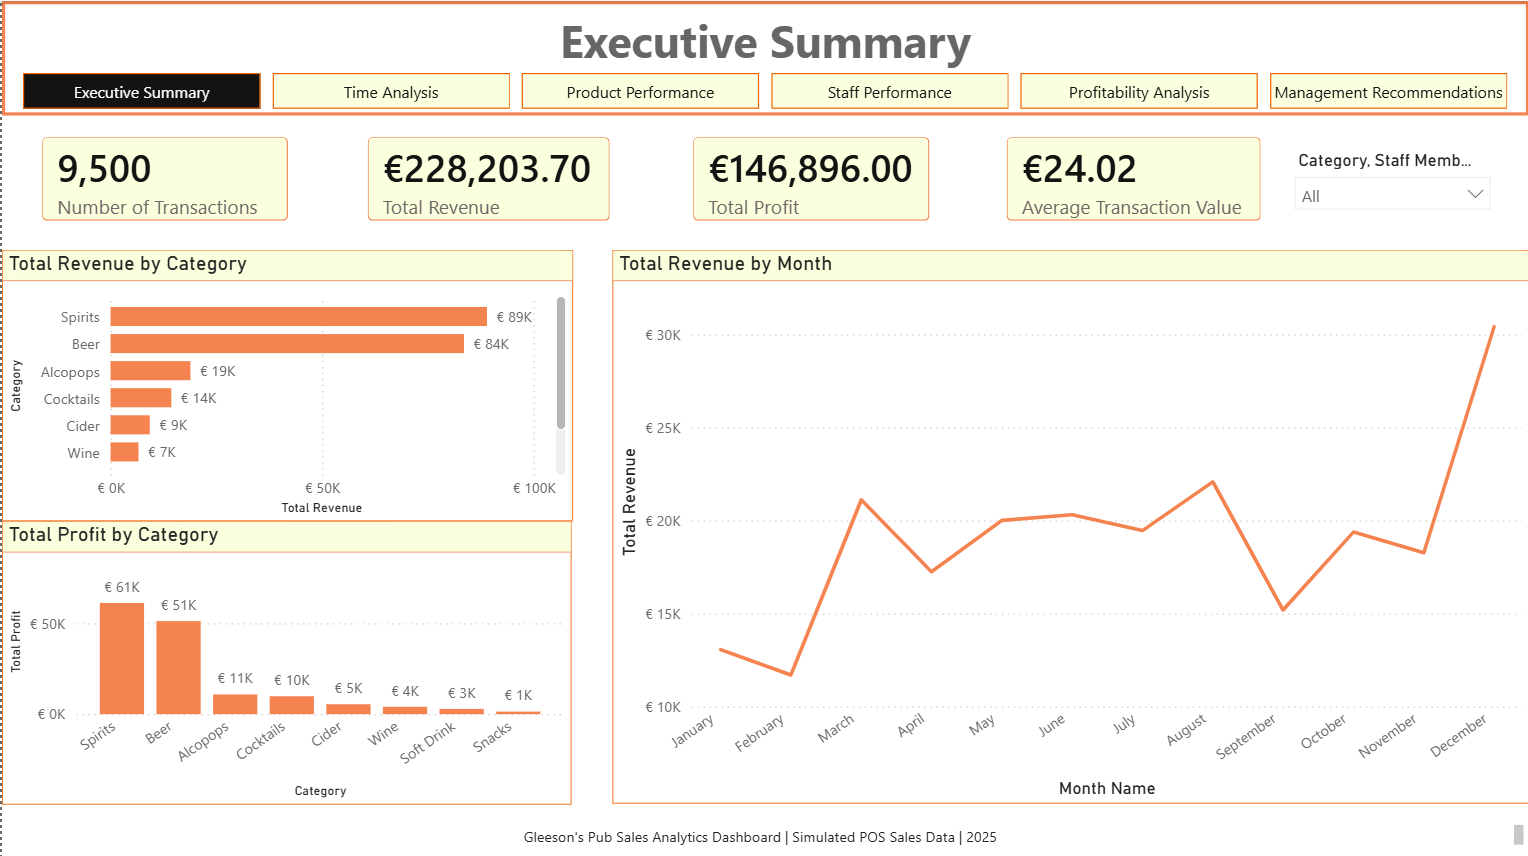

The dashboard page shown, as its layout file describes it:
{"tool":"powerbi","page":{"name":"Executive Summary","canvas":[1280,720],"ordinal":0},"visuals":[{"type":"cardVisual","fields":{"Data":["pub_sales_data.Total Revenue Card"]},"box":[289.6,96.7,237.1,104],"z":0,"group":"g1"},{"type":"cardVisual","fields":{"Data":["pub_sales_data.Total Units Sold"]},"box":[131.7,360,211.7,123.3],"z":0},{"type":"lineChart","title":"Total Revenue by Month","fields":{"Category":["pub_sales_data.Month Name"],"Y":["pub_sales_data.Total Revenue"]},"box":[511.4,208.6,768.6,464.3],"z":1000},{"type":"cardVisual","fields":{"Data":["pub_sales_data.Total Profit Card"]},"box":[562.4,96.7,232.9,104],"z":2000,"group":"g1"},{"type":"clusteredBarChart","fields":{"Category":["pub_sales_data.Category"],"Y":["pub_sales_data.Total Revenue"]},"box":[0,208.6,478.6,227.1],"z":2000},{"type":"clusteredColumnChart","fields":{"Category":["pub_sales_data.Category"],"Y":["pub_sales_data.Total Profit"]},"box":[0,435.7,477.1,237.1],"z":3000},{"type":"textbox","box":[0,0,1280,95.7],"z":4000},{"type":"cardVisual","fields":{"Data":["pub_sales_data.Transactions Card"]},"box":[16.7,96.7,240,104],"z":4000,"group":"g1"},{"type":"slicer","fields":{"Values":["pub_sales_data.Category","pub_sales_data.Staff Member","pub_sales_data.Day Name"]},"box":[1073.8,120,183.8,66.2],"z":5000},{"type":"cardVisual","fields":{"Data":["pub_sales_data.Average Transaction Value Card"]},"box":[825.3,96.7,247.1,104],"z":6000,"group":"g1"},{"type":"textbox","box":[0,685.7,1280,34.3],"z":6000},{"type":"group","id":"g1","title":"Group 1","box":[16.7,96.7,1056.7,104.4],"z":7000},{"type":"pageNavigator","box":[17.1,60,1244.3,30],"z":8000}]}

Visuals, with their boxes in screenshot pixels (x1, y1, x2, y2), scaled from the page's 1280x720 canvas onto the 1528x856 screenshot:
cardVisual - pub_sales_data.Total Revenue Card: <box>346,115,629,239</box>
cardVisual - pub_sales_data.Total Units Sold: <box>157,428,410,575</box>
"Total Revenue by Month" lineChart: <box>610,248,1527,800</box>
cardVisual - pub_sales_data.Total Profit Card: <box>671,115,949,239</box>
clusteredBarChart - pub_sales_data.Category x pub_sales_data.Total Revenue: <box>0,248,571,518</box>
clusteredColumnChart - pub_sales_data.Category x pub_sales_data.Total Profit: <box>0,518,570,800</box>
textbox: <box>0,0,1527,114</box>
cardVisual - pub_sales_data.Transactions Card: <box>20,115,306,239</box>
slicer - pub_sales_data.Category x pub_sales_data.Staff Member: <box>1282,143,1501,221</box>
cardVisual - pub_sales_data.Average Transaction Value Card: <box>985,115,1280,239</box>
textbox: <box>0,815,1527,855</box>
"Group 1" group: <box>20,115,1281,239</box>
pageNavigator: <box>20,71,1506,107</box>
